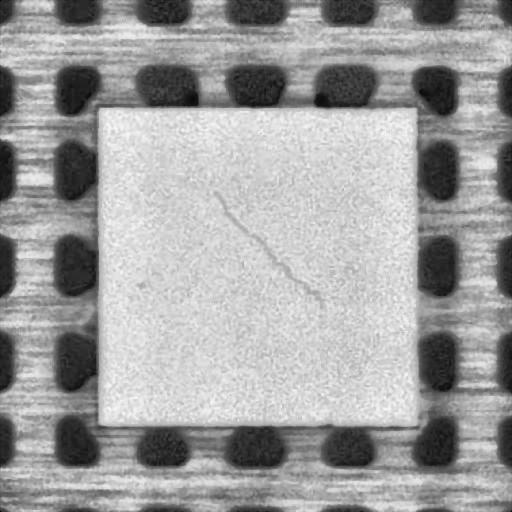DIE_CRACK: (210, 186, 332, 314)
